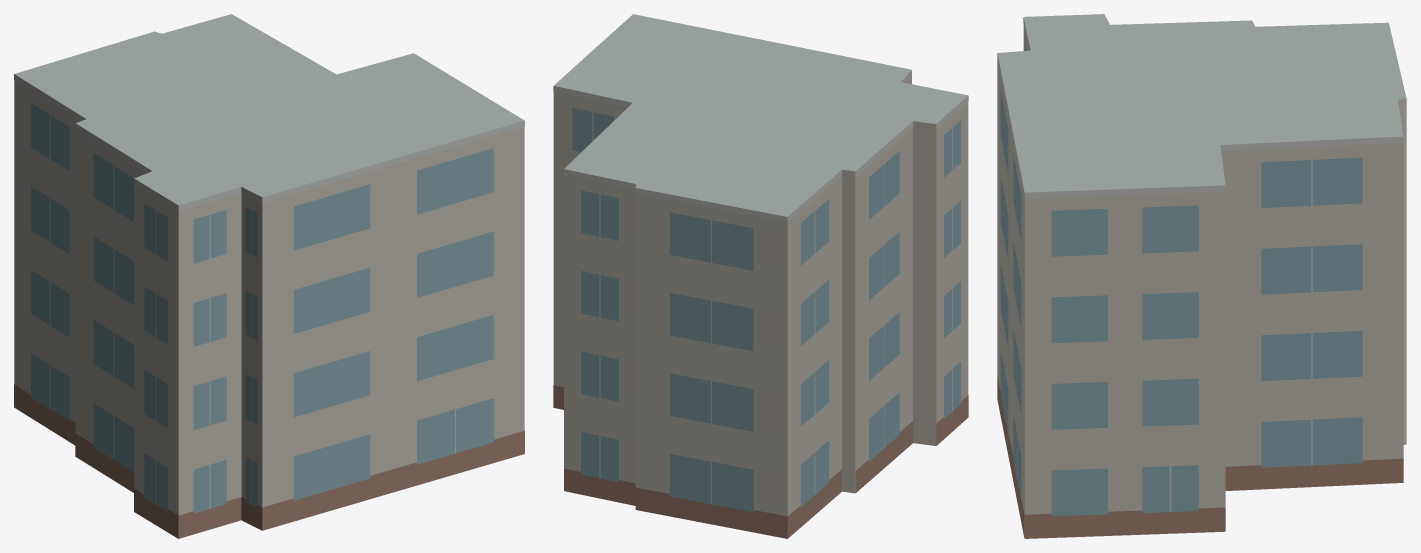
File: survey-upis-32498834.glb
3 renders of one model, left to right at view 1: azimuth 30°, elevation 25°; view 2: azimuth 150°, elevation 25°; view 3: azimuth 270°, elevation 25°, orthographic. The views are drawn at different scales.
Visible parts, largest first — view 1: survey-upis-32498834.tmp; view 2: survey-upis-32498834.tmp; view 3: survey-upis-32498834.tmp.
Part boxes in pixels (<box>): survey-upis-32498834.tmp: <box>14,14,524,538</box>; survey-upis-32498834.tmp: <box>553,14,968,538</box>; survey-upis-32498834.tmp: <box>997,14,1406,538</box>.
Bounding box in the file's own units: 15.11 × 13.65 × 14.62.
